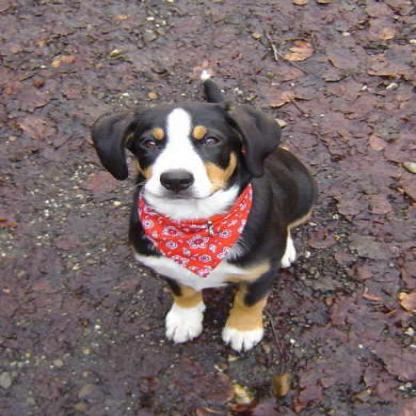EntleBucher: (87, 99, 319, 350)
